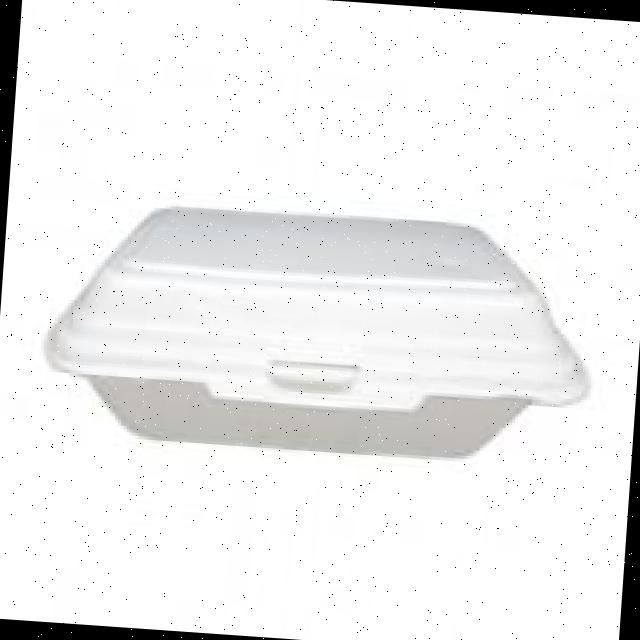styrofoam: (34, 188, 602, 470)
